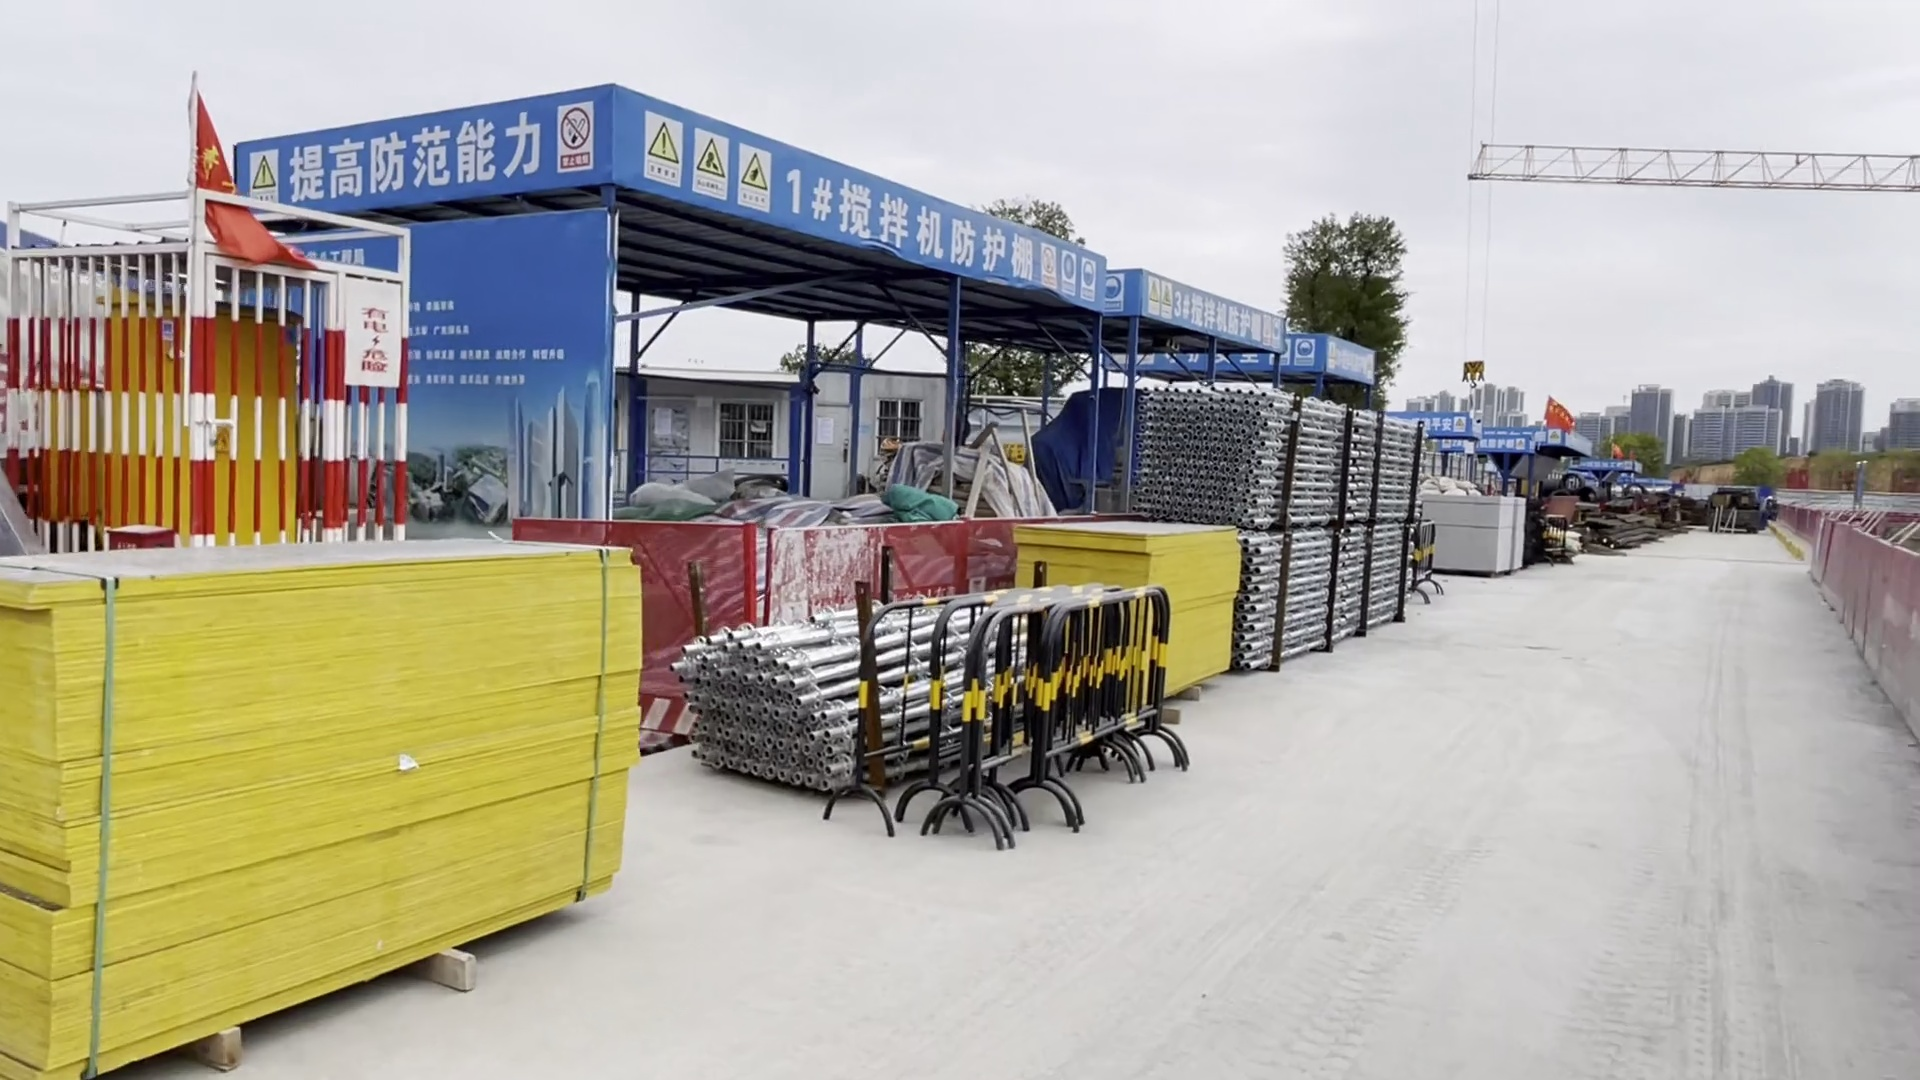board: (4, 524, 646, 1080), (1011, 509, 1237, 694)
brick: (1424, 492, 1526, 572)
fence: (860, 585, 1178, 827), (764, 527, 968, 608), (638, 521, 764, 634), (1416, 520, 1441, 597), (1539, 516, 1571, 567)
hook: (1458, 345, 1491, 401)
scaffold: (675, 595, 1088, 795), (1133, 385, 1428, 522), (1241, 530, 1414, 669)
slogan: (233, 120, 549, 200)
